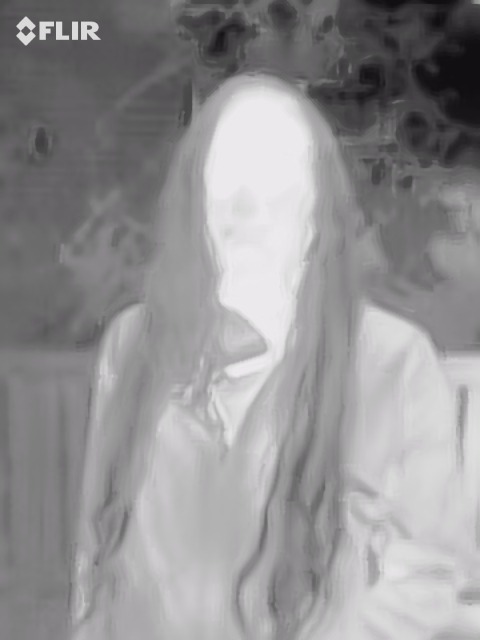head: (200, 86, 317, 278)
